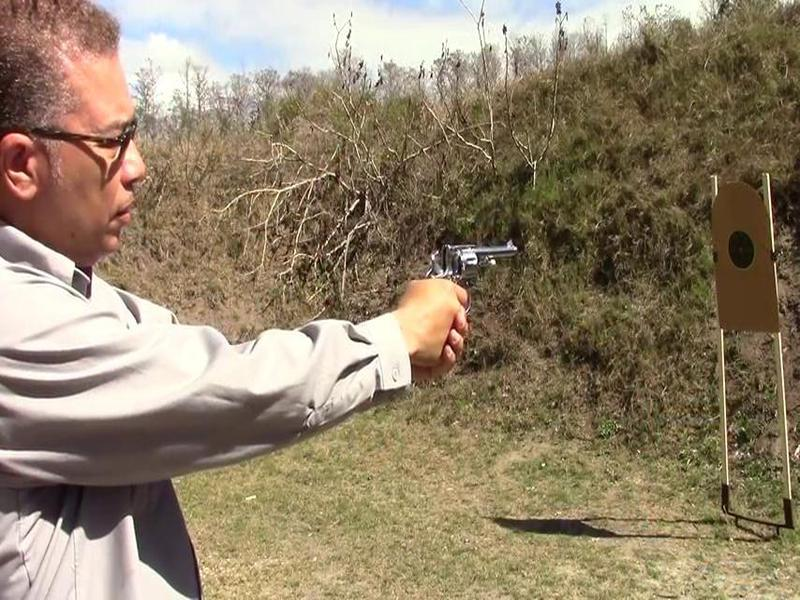Revolver: (423, 228, 528, 305)
